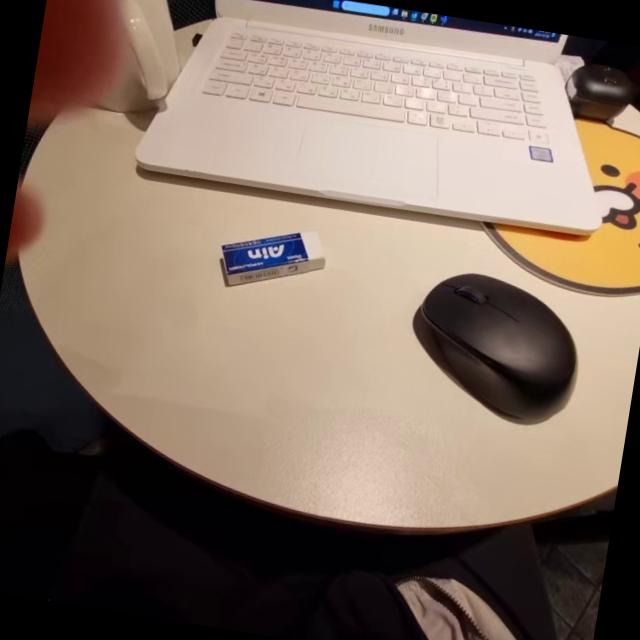eraser: (214, 220, 338, 301)
mouse: (367, 260, 594, 436)
